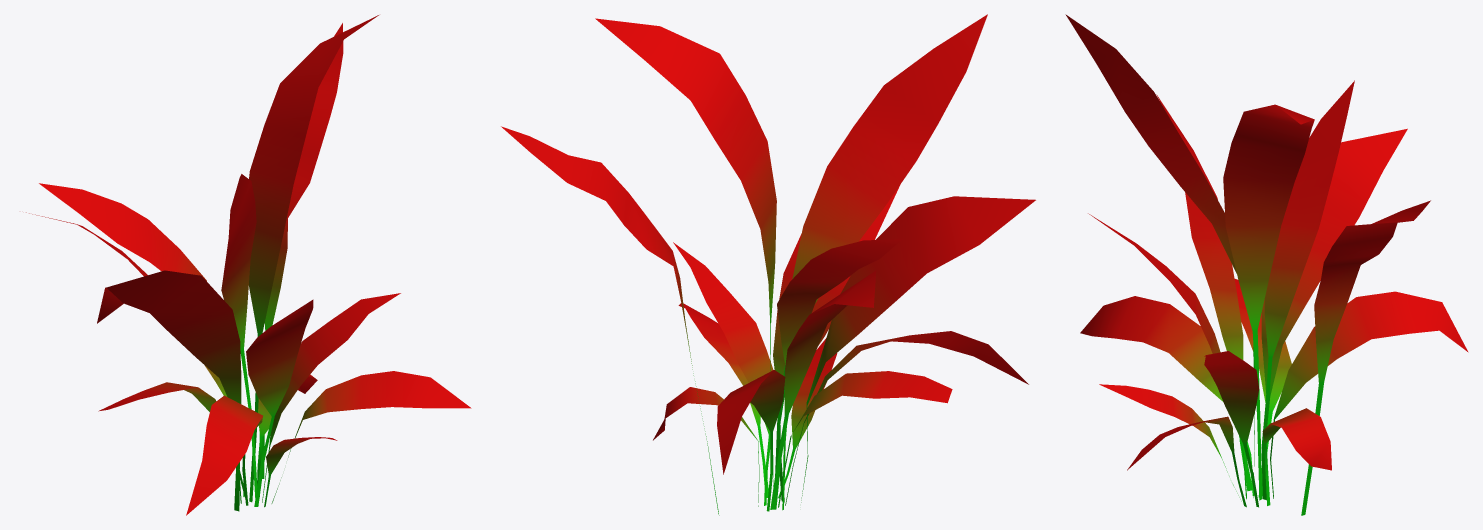
The model's file is Cast - Iron Plant_LOD2_Var1_shdmr.fbx.
3 renders of one model, left to right at view 1: azimuth 30°, elevation 25°; view 2: azimuth 150°, elevation 25°; view 3: azimuth 270°, elevation 25°, orthographic. The views are drawn at different scales.
Parts seen in each view (by area): view 1: _4003_Var1_LOD2; view 2: _4003_Var1_LOD2; view 3: _4003_Var1_LOD2.
Part boxes in pixels (x1,y1,x2,y2): _4003_Var1_LOD2: [26, 15, 471, 515]; _4003_Var1_LOD2: [501, 14, 1035, 515]; _4003_Var1_LOD2: [1065, 14, 1468, 515].
Bounding box in the file's own units: 68.16 × 77.28 × 62.44.
